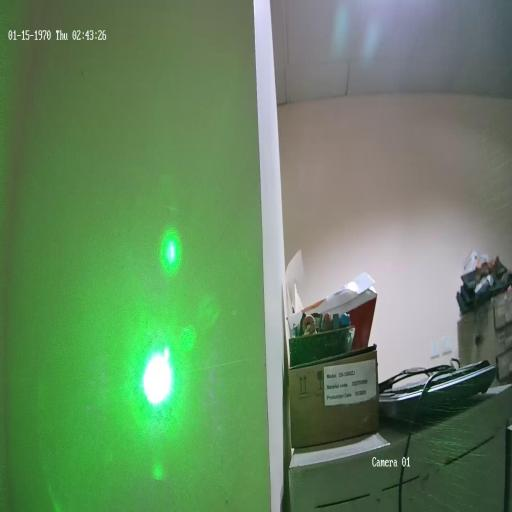laser: (136, 335, 182, 415)
